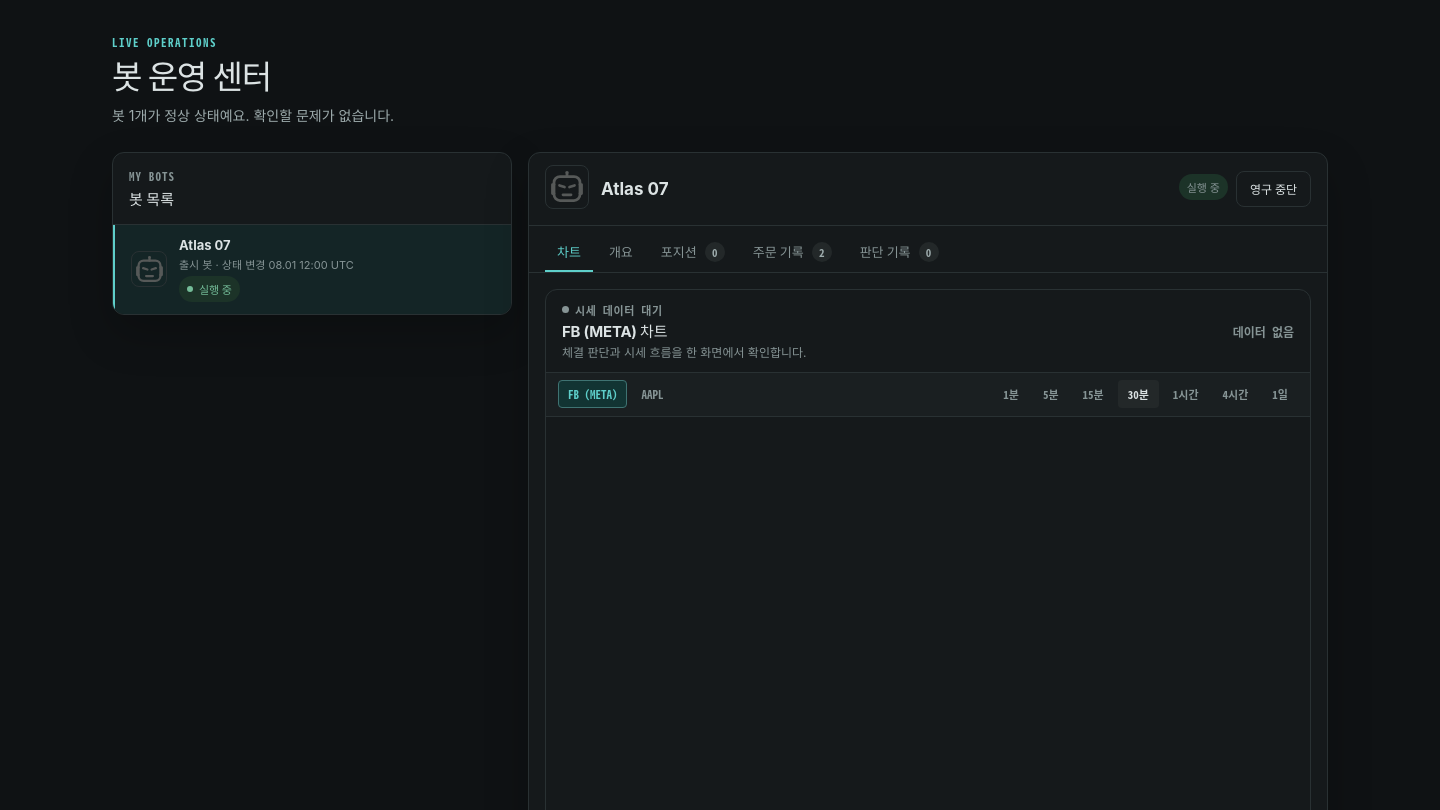
Test: Bot trading and ledger surfaces › lists the bot orders with the ticker of the moment and today's in brackets
This screenshot has width=1440, height=810.
What coordinates should you click on to do the following:
click the tab "주문 기록 2"
I would click on:
 (792, 253)
Its box is left=741, top=234, right=844, bottom=272.
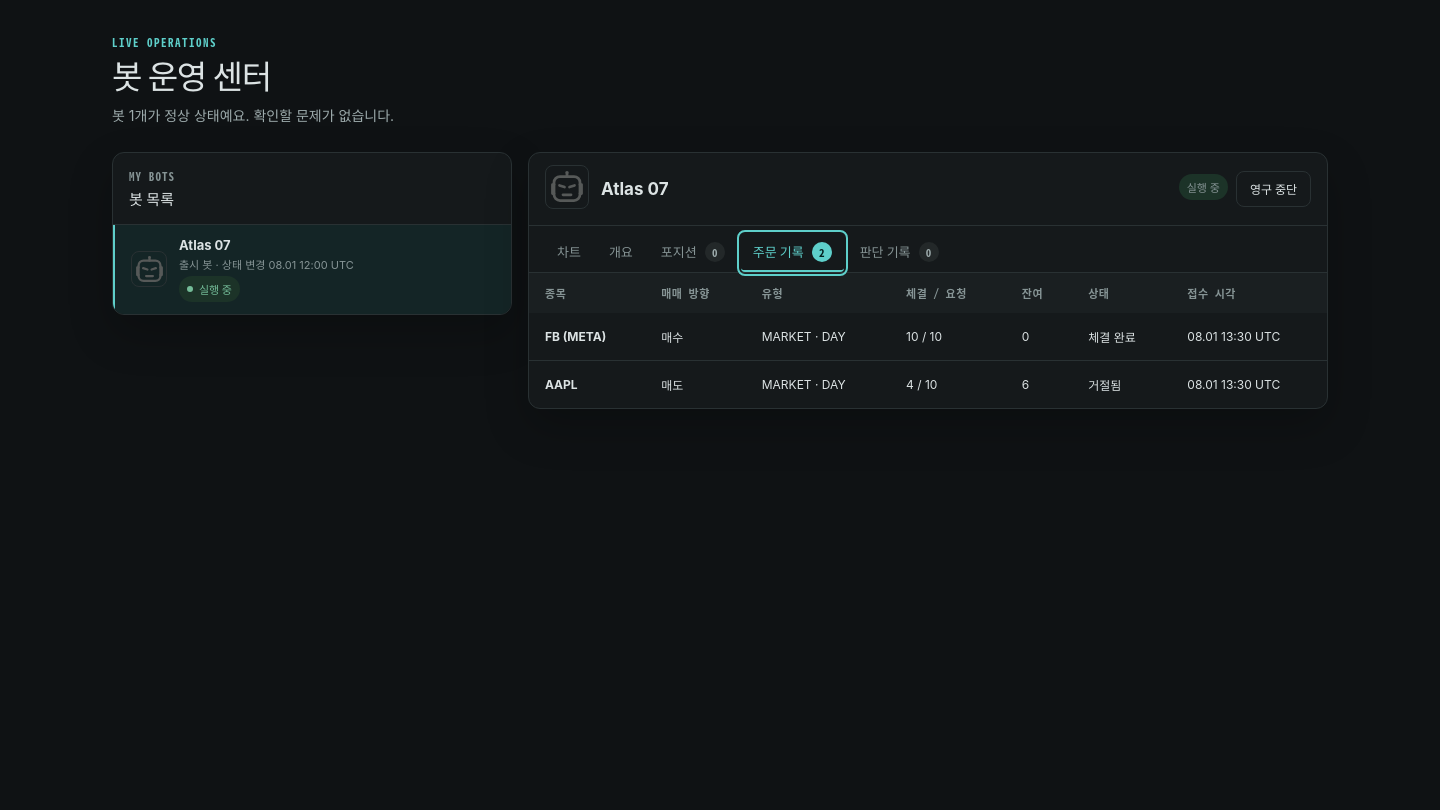
Check: the text "체결 완료" is shown, box left=1072, top=313, right=1171, bottom=360
Check: the text "거절됨" is shown, box left=1072, top=360, right=1171, bottom=408
Check: the text "매도" is shown, box left=645, top=360, right=746, bottom=408
